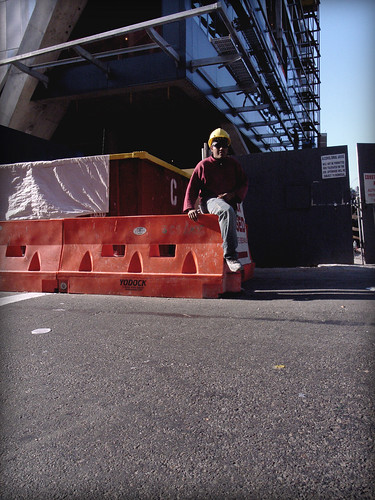person hardhat: (182, 118, 259, 281)
